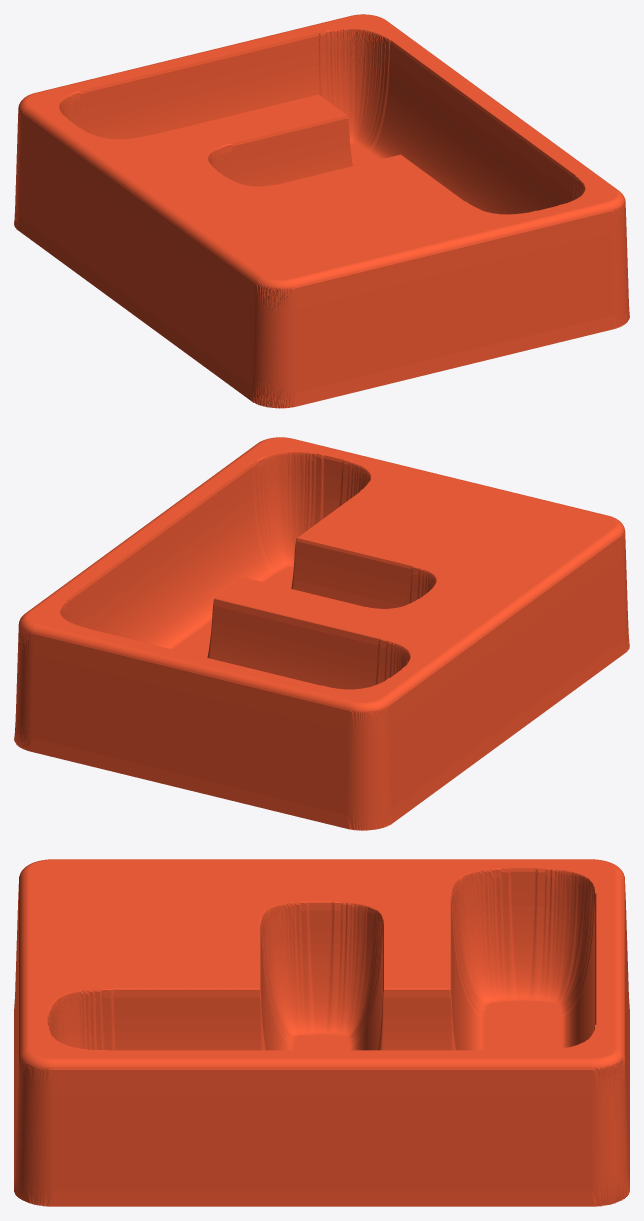
The model's file is mold.glb.
The picture shows the model from 3 angles, top to bottom: view 1: azimuth 30°, elevation 25°; view 2: azimuth 150°, elevation 25°; view 3: azimuth 270°, elevation 25°; orthographic projection. The views are drawn at different scales.
Visible parts, largest first — view 1: geometry_0; view 2: geometry_0; view 3: geometry_0.
Part boxes in pixels (x1,y1,x2,y2): geometry_0: (14, 14, 629, 408); geometry_0: (14, 437, 629, 830); geometry_0: (14, 859, 629, 1206).
Size of the model in its own units: 0.1163 by 0.0365 by 0.1435.
